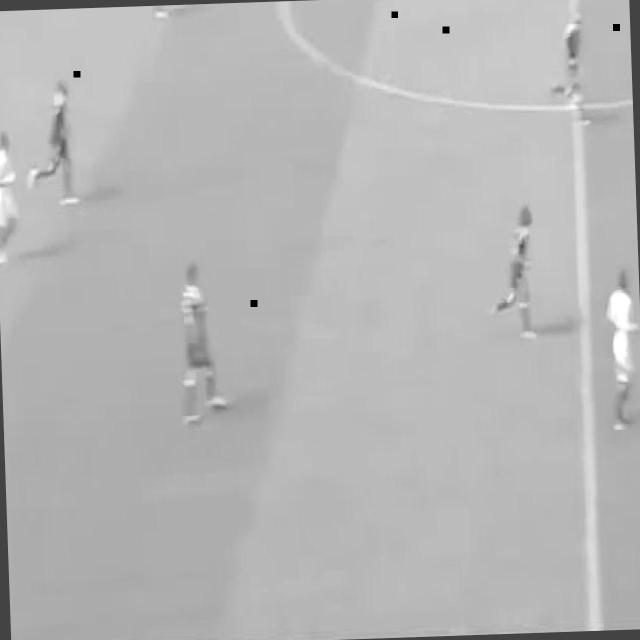player-white: (177, 264, 230, 431), (24, 78, 80, 204), (488, 205, 536, 342), (601, 270, 640, 427), (546, 10, 590, 126), (0, 132, 20, 264), (140, 5, 168, 21)
